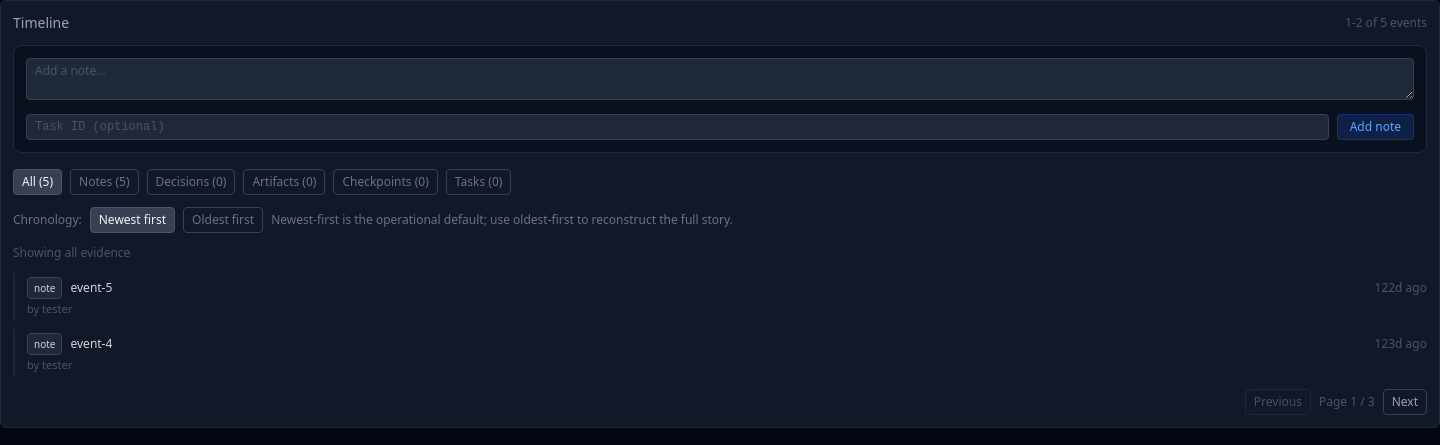
ExperimentTimelineCard › resets to page 1 when chronology changes
Click the button "Next". click: (1405, 402)
box: [1383,389,1427,415]
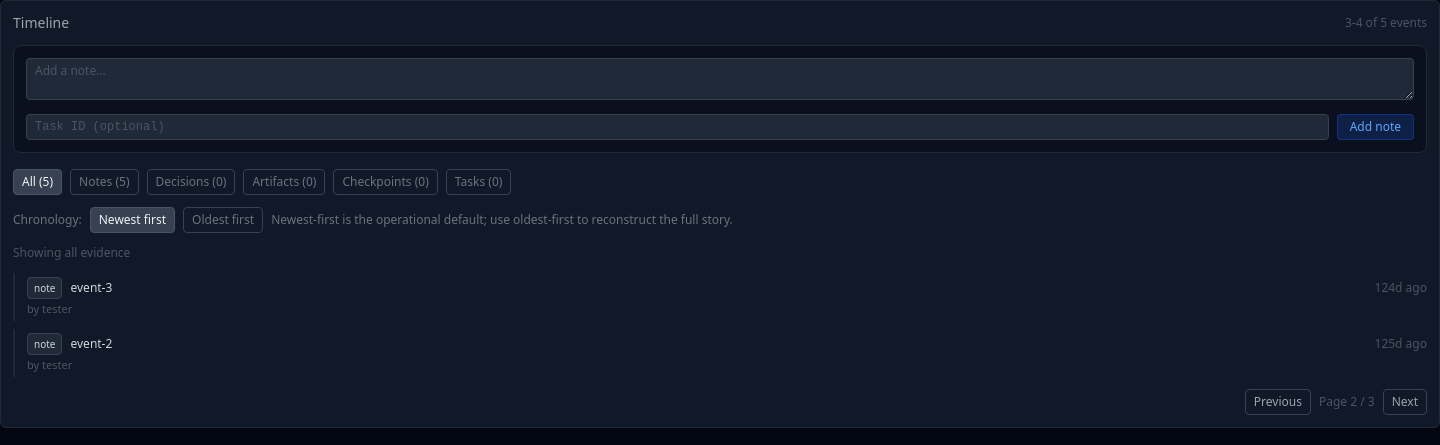
Check: the text "3-4 of 5 events" is shown, box [1345,15,1427,31]
Click the button "Oldest first". click: (223, 220)
box: [183,207,263,233]
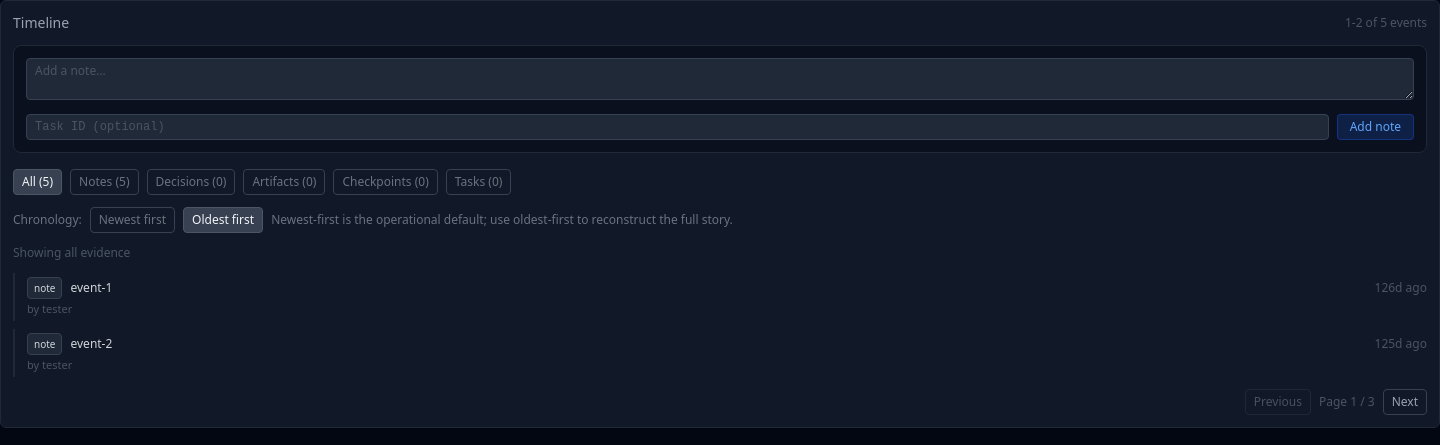
Check: the text "event-2" is shown, box [70,336,112,352]
Check: the text "1-2 of 5 events" is shown, box [1345,15,1427,31]
Check: the text "event-1" is shown, box [70,280,112,296]
